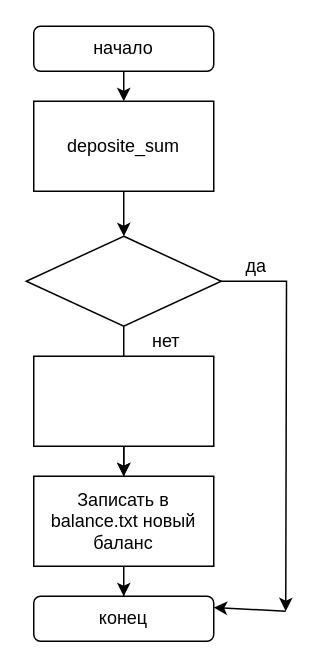
The diagram is 326 pixels wide and 668 high, and some of its shapes have lost their labels. The shapes that lost their labels are listed below. From the top down, each one's box as (x1, y1, x2, y2) in pixels, then its label:
(25, 235, 221, 326): deposite_sum < 0?
(32, 355, 214, 446): new_deposite_sum = deposite_sum + balance
